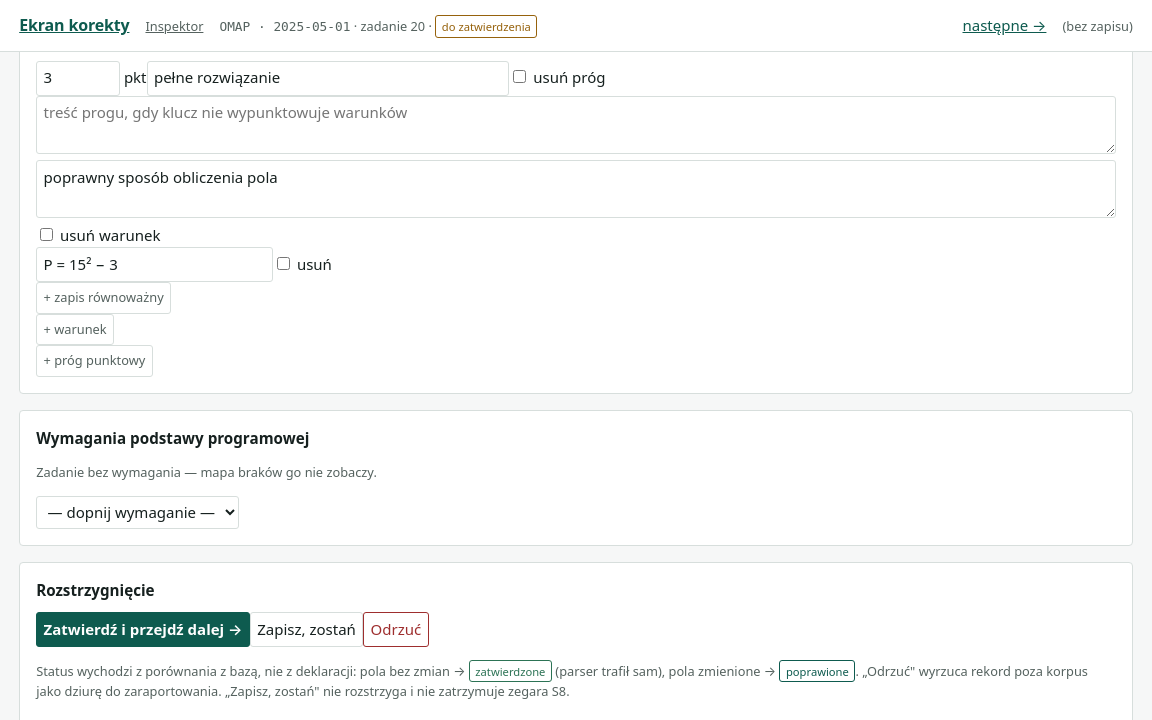
dołożenie progu zostawia korektora na zadaniu i pamięta poprawkę
The width and height of the screenshot is (1152, 720).
(page scrolled)
expect the field showing "pełne rozwiązanie" next to "pkt" is shown: met, box x1=146 y1=61 x2=509 y2=96
Click the button "+ próg punktowy" at (94, 361), box x1=36 y1=345 x2=153 y2=376
(page scrolled)
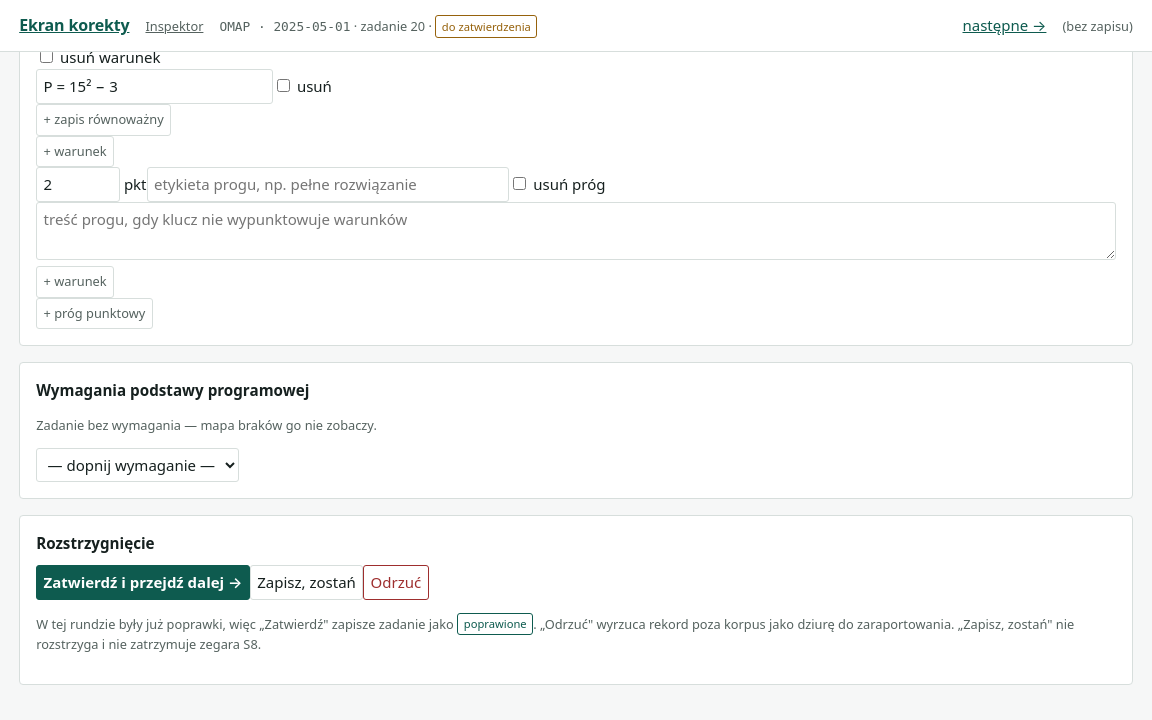
expect the field showing "2" is shown: met, box x1=36 y1=167 x2=120 y2=202
expect the text "W tej rundzie były już poprawki" is shown: met, box x1=36 y1=614 x2=454 y2=632
